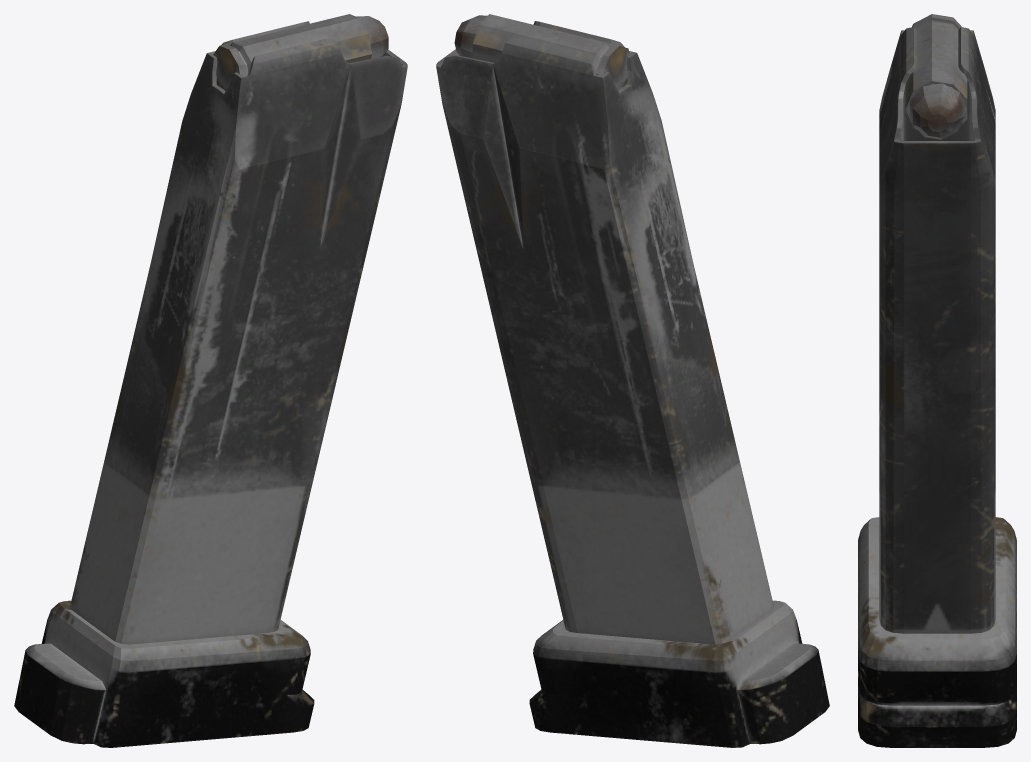
Rendered from pistol_magazine.fbx.
3 views of the same model, side by side, from view 1: azimuth 30°, elevation 25°; view 2: azimuth 150°, elevation 25°; view 3: azimuth 270°, elevation 25° (orthographic). The views are drawn at different scales.
Parts seen in each view (by area): view 1: Meta-AI_Mag.mo; view 2: Meta-AI_Mag.mo; view 3: Meta-AI_Mag.mo.
Part boxes in pixels (x1=…): Meta-AI_Mag.mo: x1=14, y1=14, x2=407, y2=747; Meta-AI_Mag.mo: x1=436, y1=14, x2=829, y2=747; Meta-AI_Mag.mo: x1=858, y1=14, x2=1016, y2=747.
Size of the model in its own units: 9.4 by 16.88 by 3.44.
Materials: 1 (1 with a texture image).
